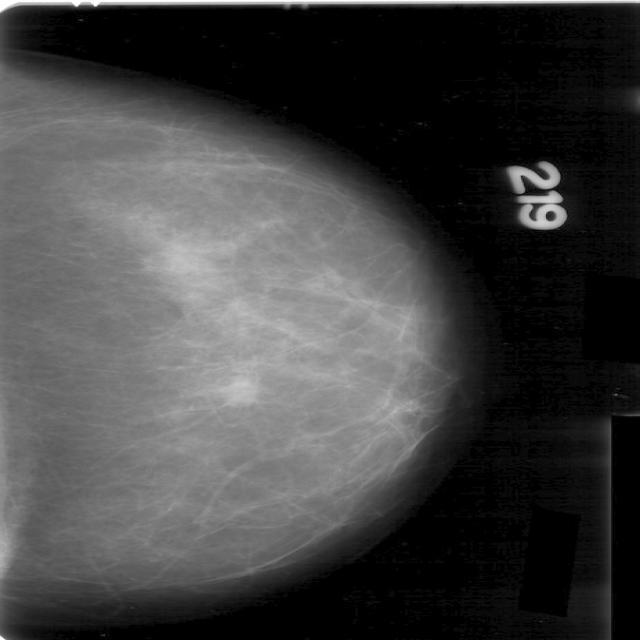tumour: (220, 374, 254, 406)
